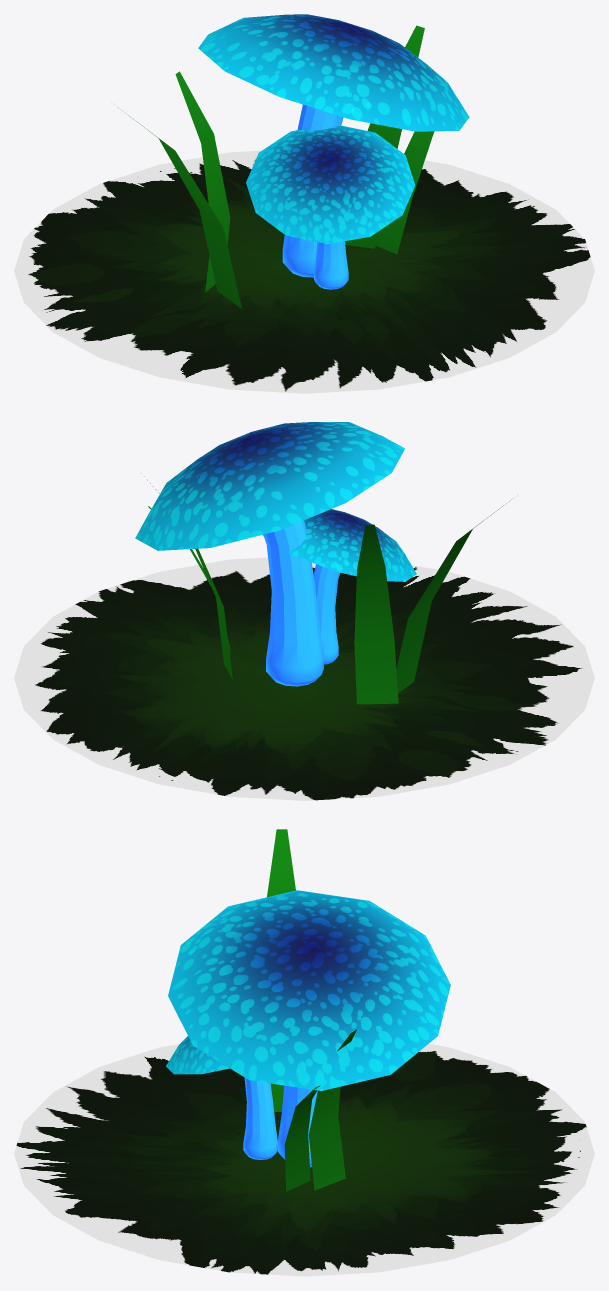
File: glow-shroom-transformed.glb
The picture shows the model from 3 angles, top to bottom: view 1: azimuth 30°, elevation 25°; view 2: azimuth 150°, elevation 25°; view 3: azimuth 270°, elevation 25°; orthographic projection.
Visible parts, largest first — view 1: pDisc1, shroom_caps, shroom_stems, pPlane1, pPlane2, pPlane3, pPlane4; view 2: pDisc1, shroom_caps, shroom_stems, pPlane2, pPlane1, pPlane4; view 3: pDisc1, shroom_caps, shroom_stems, pPlane4, pPlane3, pPlane1.
Part boxes in pixels (<box>): pDisc1: <box>14,150,594,393</box>; shroom_caps: <box>198,14,469,243</box>; shroom_stems: <box>282,104,348,289</box>; pPlane1: <box>128,115,241,308</box>; pPlane2: <box>175,71,230,291</box>; pPlane3: <box>372,131,434,254</box>; pPlane4: <box>345,25,424,248</box>; pDisc1: <box>14,557,594,800</box>; shroom_caps: <box>135,422,416,581</box>; shroom_stems: <box>263,520,340,686</box>; pPlane2: <box>354,524,398,704</box>; pPlane1: <box>396,498,513,693</box>; pPlane4: <box>141,473,232,680</box>; pDisc1: <box>14,1044,594,1276</box>; shroom_caps: <box>166,890,450,1090</box>; shroom_stems: <box>243,1077,317,1167</box>; pPlane4: <box>308,1029,356,1190</box>; pPlane3: <box>284,1085,320,1191</box>; pPlane1: <box>267,829,295,1111</box>.
Size of the model in its own units: 16.42 by 8.22 by 16.42.
Materials: 4 (2 with a texture image).
